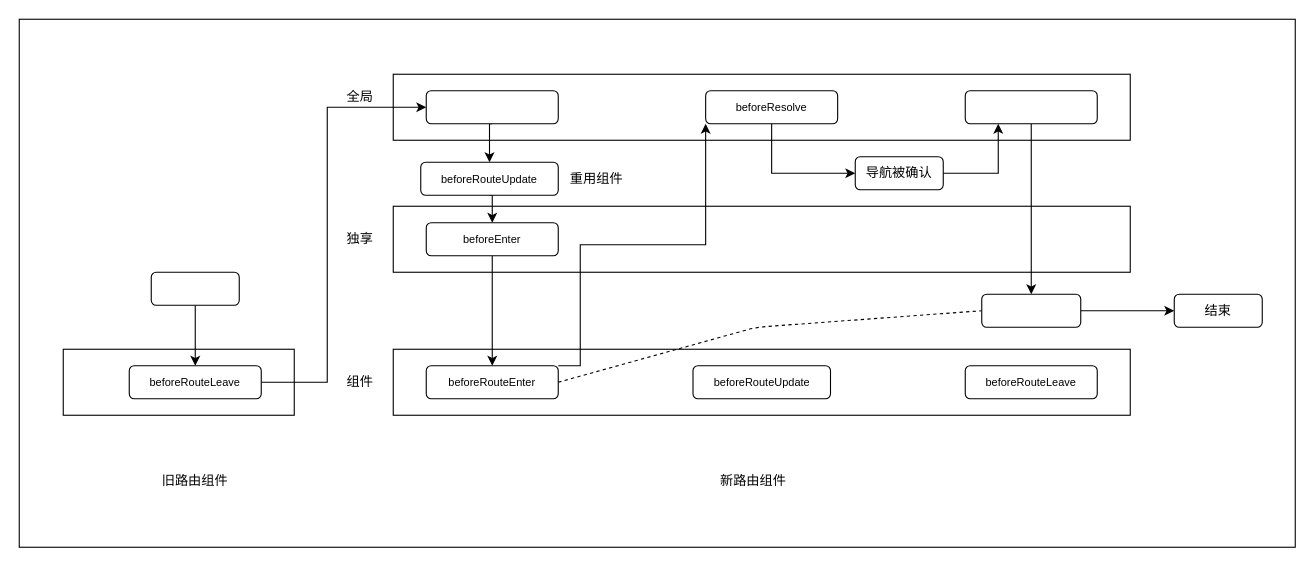
The diagram is 1315 pixels wide and 567 high, and some of its shapes have lost their labels. Each missing label, with the centre of its shape:
"afterEach" belongs at [1030,107].
"beforeEach" belongs at [491,107].
"next(回调函数)" belongs at [1031,310].
"导航被触发" belongs at [194,288].
